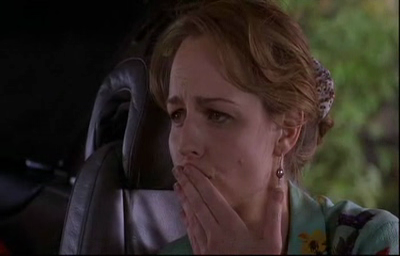cu: (1, 1, 400, 256)
face: (167, 60, 261, 214)
person: (140, 1, 398, 254)
